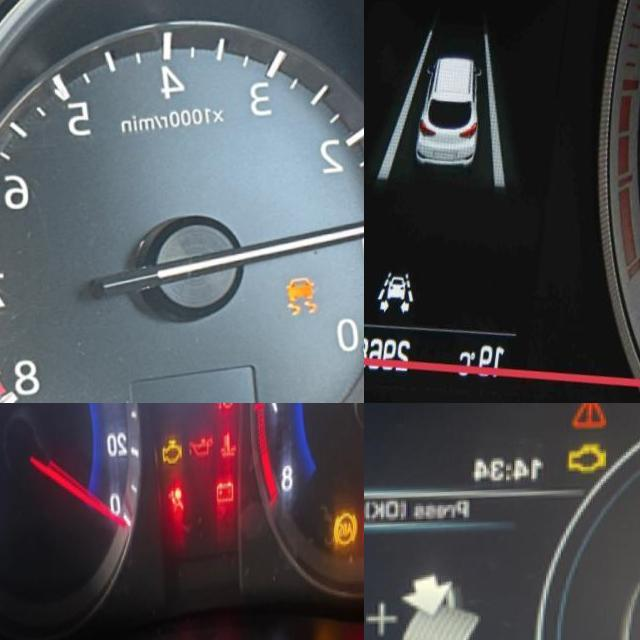High Engine Coolant Temperature: (219, 431, 239, 464)
